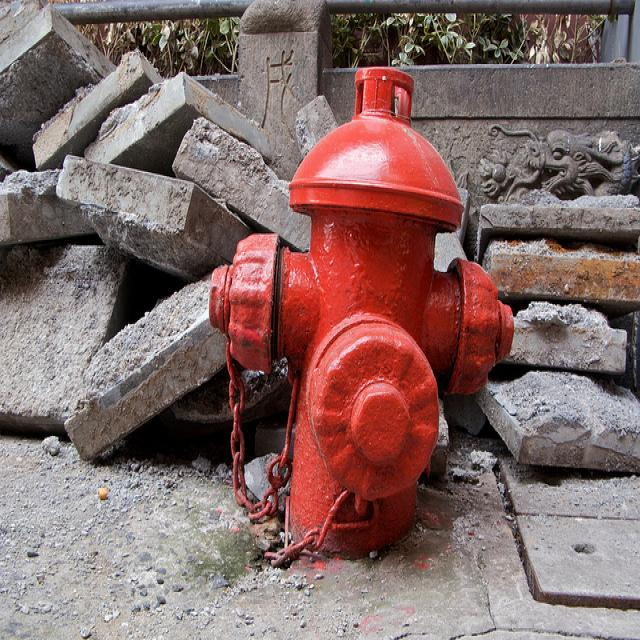fire_hydrant: (198, 50, 522, 572)
